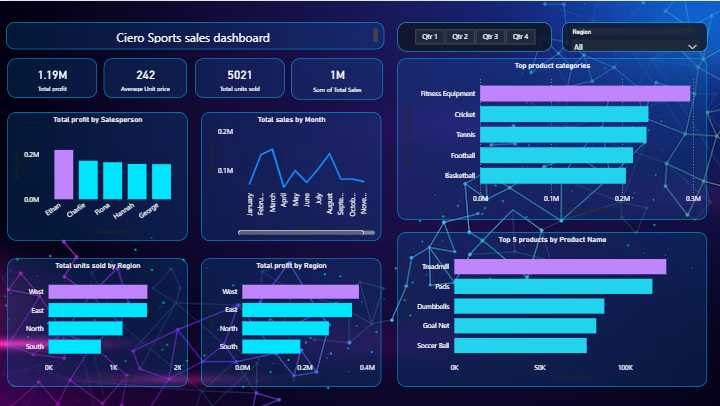

The page's visual inventory and layout, read from the dashboard file:
{"tool":"powerbi","page":{"name":"Page 1","canvas":[1280,720],"ordinal":0},"visuals":[{"type":"clusteredBarChart","fields":{"Category":["Sheet1.Region"],"Y":["Sheet1.Total profit"]},"box":[356.8,458.3,319.7,227.8],"z":0},{"type":"clusteredColumnChart","fields":{"Category":["Sheet1.Salesperson"],"Y":["Sheet1.Total profit"]},"box":[13.3,196.7,320,228.3],"z":1000},{"type":"clusteredBarChart","fields":{"Category":["Sheet1.Region"],"Y":["Sum(Sheet1.Units Sold)"]},"box":[13.3,458.3,320,228],"z":2000},{"type":"card","fields":{"Values":["Sheet1.Total profit"]},"box":[13.7,101.5,159,70],"z":3000},{"type":"lineChart","fields":{"Y":["Sum(Sheet1.Total Sales)"],"Category":["Sheet1.Date.Variation.Date Hierarchy.Month"]},"box":[356.8,197.6,319.7,229.2],"z":4000},{"type":"clusteredBarChart","title":"Top product categories","fields":{"Category":["Sheet1.Product Category"],"Y":["Sheet1.Total profit"]},"box":[706.7,102.9,550.3,286.8],"z":5000},{"type":"card","fields":{"Values":["Sum(Sheet1.Units Sold)"]},"box":[345.8,102.9,159.2,70],"z":6000},{"type":"slicer","fields":{"Values":["Sheet1.Date.Variation.Date Hierarchy.Quarter"]},"box":[706.7,37,274.4,52.1],"z":7000},{"type":"slicer","fields":{"Values":["Sheet1.Region"]},"box":[999,37,258,52.1],"z":8000},{"type":"textbox","box":[10,36.7,671.7,48.3],"z":9000},{"type":"card","fields":{"Values":["Sheet1.Average Unit price"]},"box":[183.9,102.9,148.2,70],"z":10000},{"type":"card","fields":{"Values":["Sum(Sheet1.Total Sales)"]},"box":[517.3,102.9,163.3,72.7],"z":11000},{"type":"clusteredBarChart","fields":{"Category":["Sheet1.Product Name"],"Y":["Sum(Sheet1.Total Sales)"]},"box":[706.7,411.7,550.3,274.4],"z":12000}]}

Visuals, with their boxes in screenshot pixels (x1, y1, x2, y2), scaled from the page's 1280x720 canvas onto the 720x406 screenshot:
clusteredBarChart - Sheet1.Region x Sheet1.Total profit: [left=201, top=258, right=381, bottom=387]
clusteredColumnChart - Sheet1.Salesperson x Sheet1.Total profit: [left=7, top=111, right=187, bottom=240]
clusteredBarChart - Sheet1.Region x Sum(Sheet1.Units Sold): [left=7, top=258, right=187, bottom=387]
card - Sheet1.Total profit: [left=8, top=57, right=97, bottom=97]
lineChart - Sum(Sheet1.Total Sales) x Sheet1.Date.Variation.Date Hierarchy.Month: [left=201, top=111, right=381, bottom=241]
"Top product categories" clusteredBarChart: [left=398, top=58, right=707, bottom=220]
card - Sum(Sheet1.Units Sold): [left=195, top=58, right=284, bottom=97]
slicer - Sheet1.Date.Variation.Date Hierarchy.Quarter: [left=398, top=21, right=552, bottom=50]
slicer - Sheet1.Region: [left=562, top=21, right=707, bottom=50]
textbox: [left=6, top=21, right=383, bottom=48]
card - Sheet1.Average Unit price: [left=103, top=58, right=187, bottom=97]
card - Sum(Sheet1.Total Sales): [left=291, top=58, right=383, bottom=99]
clusteredBarChart - Sheet1.Product Name x Sum(Sheet1.Total Sales): [left=398, top=232, right=707, bottom=387]
